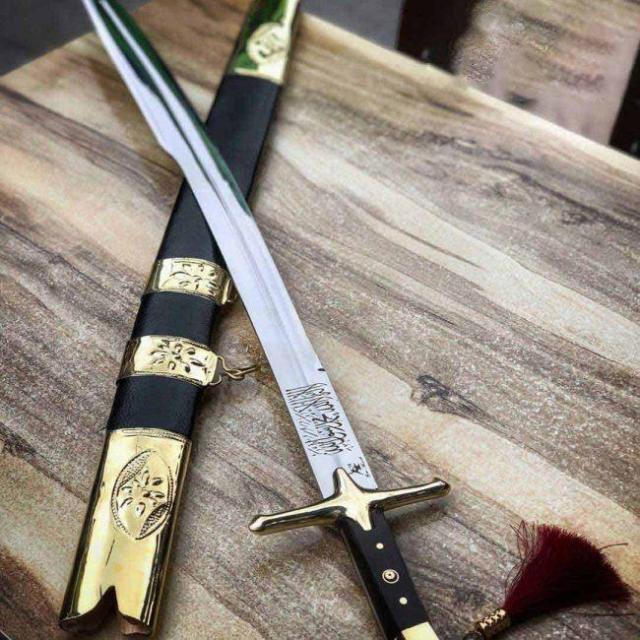weapon: (77, 1, 456, 640)
